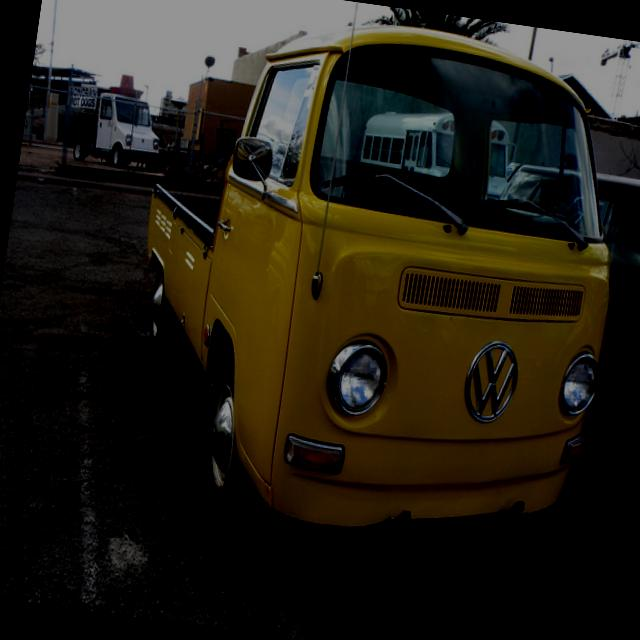Vehicle: (109, 7, 640, 570), (562, 173, 640, 439), (356, 104, 516, 200), (57, 92, 169, 174)
